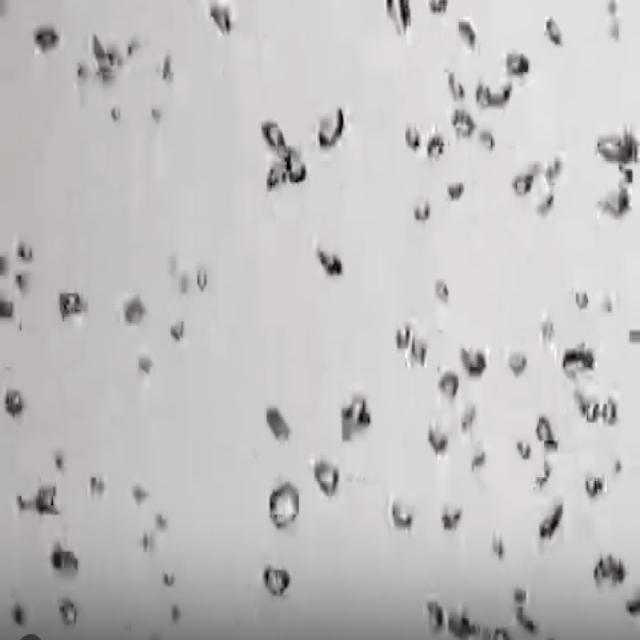bubble: (511, 154, 565, 216), (451, 106, 494, 152), (595, 125, 640, 168), (572, 384, 616, 426), (405, 118, 448, 160), (268, 479, 299, 528), (340, 393, 371, 442), (17, 482, 61, 516), (598, 182, 633, 220), (384, 0, 417, 40), (316, 105, 346, 149), (592, 551, 626, 588), (91, 31, 119, 75), (561, 342, 595, 377), (175, 262, 208, 296), (476, 78, 512, 109), (312, 458, 339, 497), (538, 498, 563, 540), (261, 118, 290, 154), (386, 0, 412, 38), (265, 404, 291, 442), (459, 343, 488, 377), (58, 288, 88, 320), (452, 604, 478, 640), (262, 564, 290, 597), (33, 24, 61, 56), (51, 542, 78, 575), (209, 1, 235, 35), (316, 244, 342, 278), (535, 413, 558, 448), (512, 166, 537, 198), (515, 601, 538, 635), (390, 497, 414, 529), (457, 16, 478, 51), (425, 598, 446, 633), (504, 50, 530, 78), (408, 332, 428, 368), (123, 294, 147, 324), (427, 424, 449, 456), (285, 154, 307, 186), (437, 369, 459, 400), (3, 386, 24, 418), (444, 68, 463, 102), (543, 154, 564, 183), (536, 183, 555, 214), (394, 322, 412, 353), (58, 597, 77, 626), (441, 504, 461, 531), (545, 16, 563, 46), (459, 402, 476, 433), (404, 123, 422, 152), (507, 350, 527, 376), (536, 456, 550, 492), (600, 396, 618, 424), (584, 473, 604, 498), (16, 238, 34, 264), (2, 296, 15, 331), (160, 52, 174, 83), (413, 196, 431, 220), (478, 128, 495, 152), (470, 447, 486, 472), (132, 482, 150, 504), (10, 602, 26, 626), (15, 270, 31, 294), (600, 290, 616, 314), (90, 473, 106, 496), (126, 36, 142, 59), (608, 16, 622, 42), (492, 532, 505, 560), (434, 278, 449, 302), (447, 180, 464, 201), (140, 529, 154, 554), (170, 318, 184, 342), (516, 438, 531, 460), (76, 61, 91, 82), (196, 266, 208, 292), (0, 252, 12, 278), (138, 354, 152, 376), (513, 585, 527, 607), (575, 289, 589, 310), (492, 625, 511, 640), (178, 272, 190, 295), (155, 511, 168, 531), (54, 449, 65, 472), (606, 0, 619, 19), (150, 105, 163, 124), (628, 325, 640, 345), (622, 165, 634, 185), (110, 104, 121, 123), (613, 456, 623, 476), (163, 570, 175, 586), (481, 621, 491, 640), (171, 603, 181, 622), (608, 1, 618, 14)
